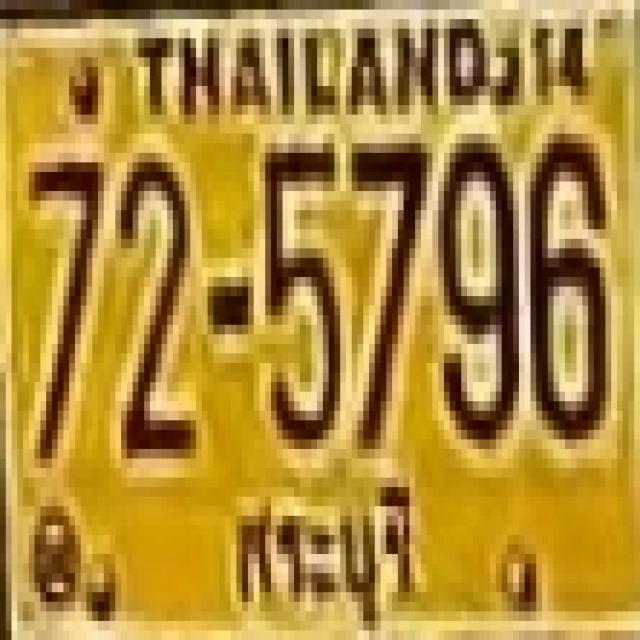2: (116, 153, 190, 449)
5: (260, 134, 340, 439)
6: (525, 124, 605, 430)
7: (26, 153, 101, 458), (349, 134, 424, 439), (349, 134, 424, 392)
9: (438, 134, 513, 439)
SRI: (211, 467, 427, 632)
